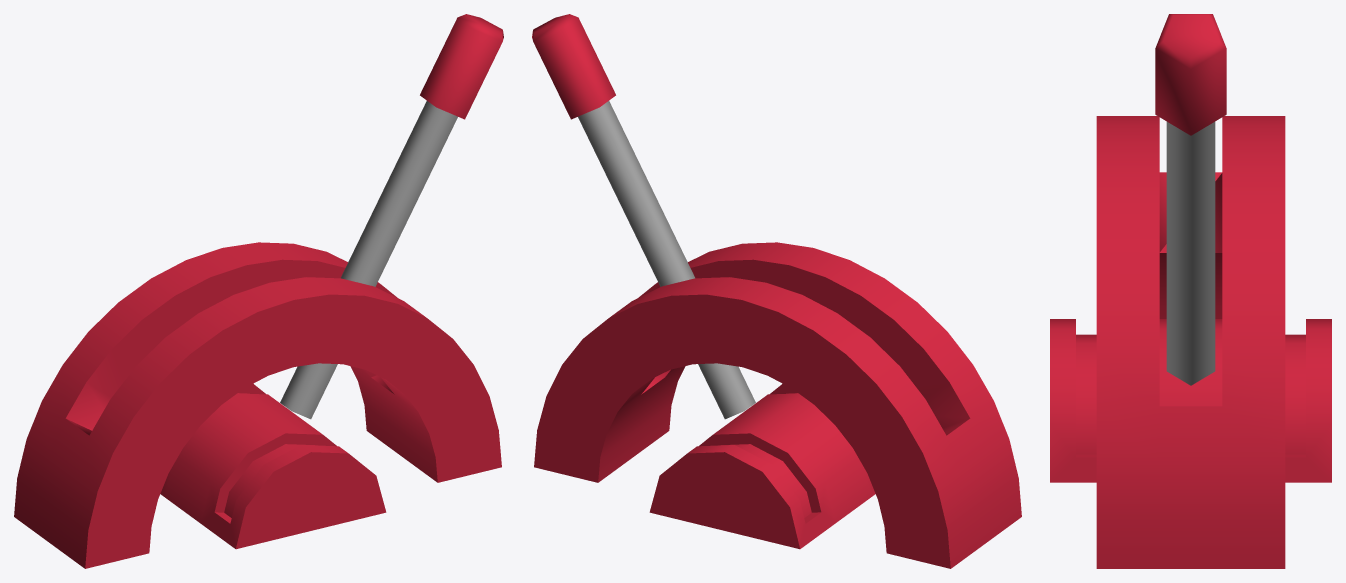
The model's file is lever.dae.
3 renders of one model, left to right at view 1: azimuth 30°, elevation 25°; view 2: azimuth 150°, elevation 25°; view 3: azimuth 270°, elevation 25°, orthographic. The views are drawn at different scales.
Parts seen in each view (by area): view 1: Body, Handle; view 2: Body, Handle; view 3: Body, Handle.
Boxes of the visible parts, x1,y1,x2,y2 form: Body: (14,242,501,568); Handle: (280,14,503,419); Body: (534,242,1021,568); Handle: (532,14,755,419); Body: (1050,116,1331,568); Handle: (1155,14,1226,385).
Size of the model in its own units: 0.811 by 0.3284 by 0.7179.
